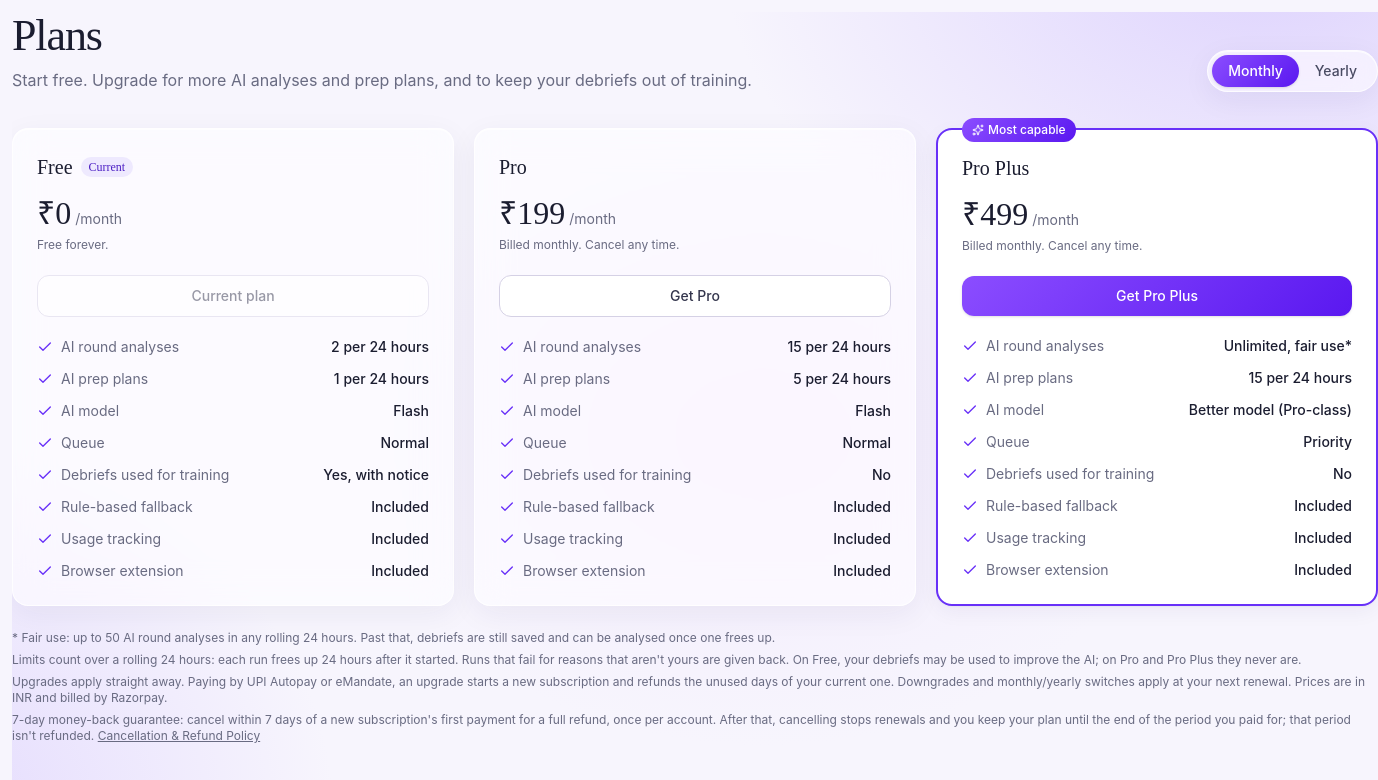
Test: pricing page › subscribes: checkout, verify with the server, then shows the new plan
The image size is (1378, 780).
Expected: the heading "Pro Plus" is shown, [962,157,1029,179]
Double-click the button "Get Pro" at (695, 296), box [499,275,891,317]
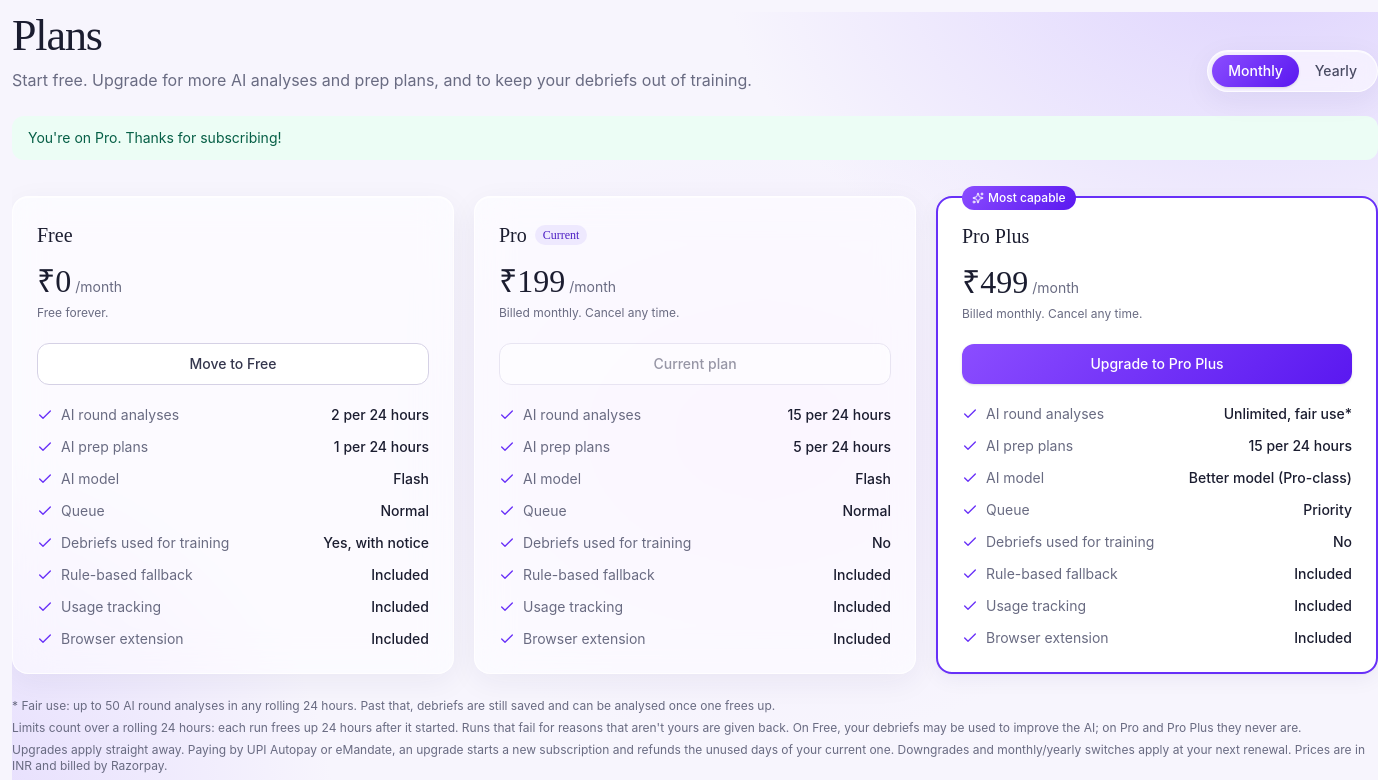
Expected: the text "You're on Pro. Thanks for subscribing!" is shown, [28,128,282,148]
